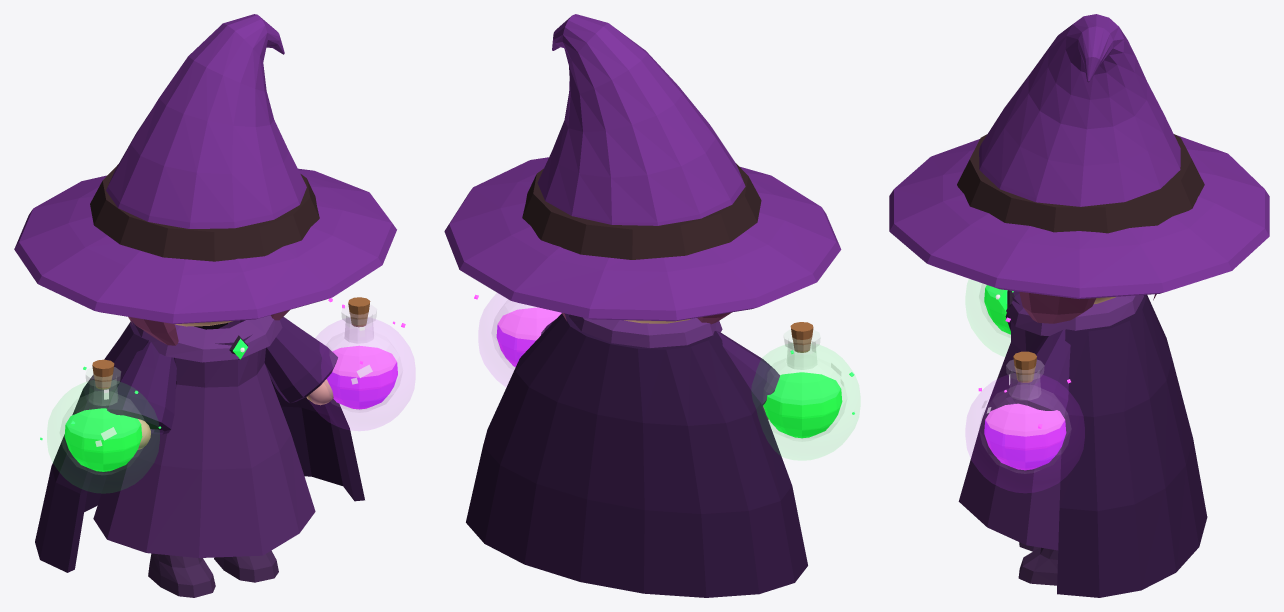
Rendered from witch.glb.
3 views of the same model, side by side, from view 1: azimuth 30°, elevation 25°; view 2: azimuth 150°, elevation 25°; view 3: azimuth 270°, elevation 25° (orthographic). The views are drawn at different scales.
Parts seen in each view (by area): view 1: witchHatGroup, dressGroup, capeGroup, purplePotionGroup, greenPotionGroup, rightArmGroup, leftArmGroup, collarGroup, rightLegGroup, leftLegGroup, hairGroup; view 2: capeGroup, witchHatGroup, greenPotionGroup, purplePotionGroup, collarGroup, rightArmGroup; view 3: witchHatGroup, capeGroup, purplePotionGroup, dressGroup, leftArmGroup, collarGroup, hairGroup, leftLegGroup, greenPotionGroup.
Part boxes in pixels (x1,y1,x2,y2): witchHatGroup: (14, 14, 396, 324); dressGroup: (93, 320, 315, 557); capeGroup: (35, 320, 364, 572); purplePotionGroup: (310, 297, 414, 430); greenPotionGroup: (59, 359, 147, 475); rightArmGroup: (107, 341, 176, 449); leftArmGroup: (264, 317, 337, 405); collarGroup: (135, 315, 282, 362); rightLegGroup: (148, 553, 215, 597); leftLegGroup: (214, 550, 278, 582); hairGroup: (128, 310, 289, 345); capeGroup: (466, 313, 807, 597); witchHatGroup: (444, 14, 841, 321); greenPotionGroup: (762, 322, 847, 441); purplePotionGroup: (479, 293, 561, 386); collarGroup: (569, 314, 722, 347); rightArmGroup: (715, 330, 779, 419); witchHatGroup: (889, 14, 1269, 299); capeGroup: (1057, 294, 1207, 597); purplePotionGroup: (966, 351, 1084, 492); dressGroup: (958, 291, 1061, 550); leftArmGroup: (1005, 330, 1070, 416); collarGroup: (1006, 291, 1143, 335); hairGroup: (1019, 291, 1156, 323); leftLegGroup: (1018, 547, 1058, 585); greenPotionGroup: (978, 283, 1013, 338).
Size of the model in its own units: 0.6928 by 0.961 by 0.5891.
